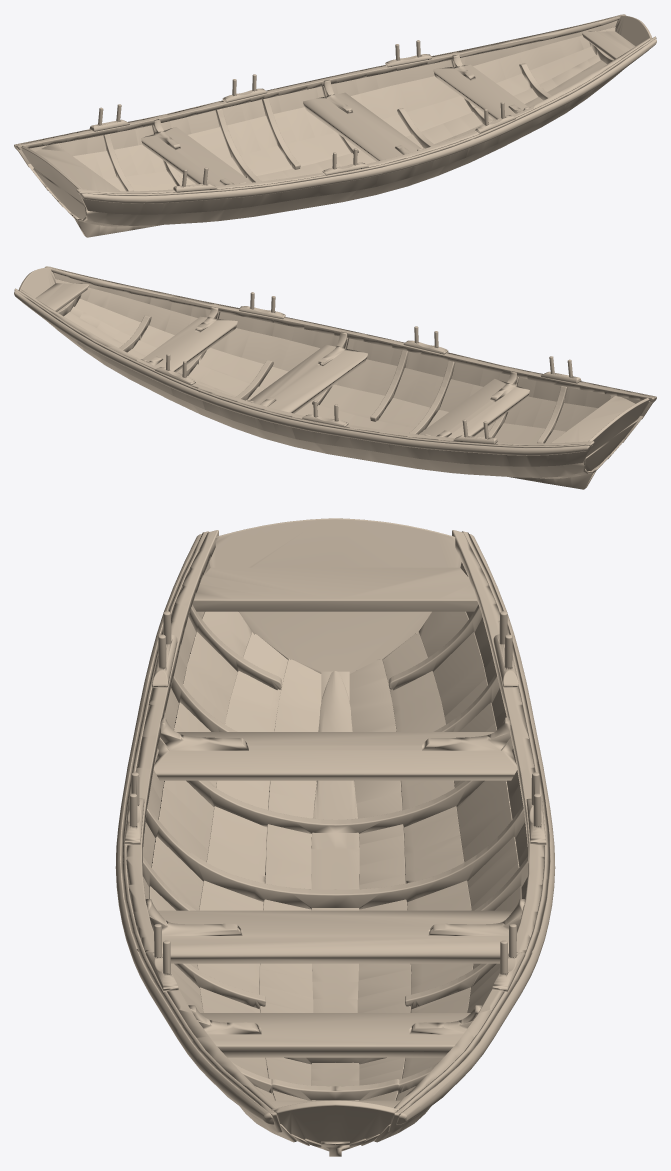
File: barge.dae
The picture shows the model from 3 angles, top to bottom: view 1: azimuth 30°, elevation 25°; view 2: azimuth 150°, elevation 25°; view 3: azimuth 270°, elevation 25°; orthographic projection. The views are drawn at different scales.
Visible parts, largest first — view 1: fürstprammen-21_v1; view 2: fürstprammen-21_v1; view 3: fürstprammen-21_v1.
Part boxes in pixels (x1,y1,x2,y2): fürstprammen-21_v1: [14, 14, 656, 237]; fürstprammen-21_v1: [14, 266, 656, 489]; fürstprammen-21_v1: [115, 518, 555, 1156].
Size of the model in its own units: 4.36 by 1.4 by 0.6933.
